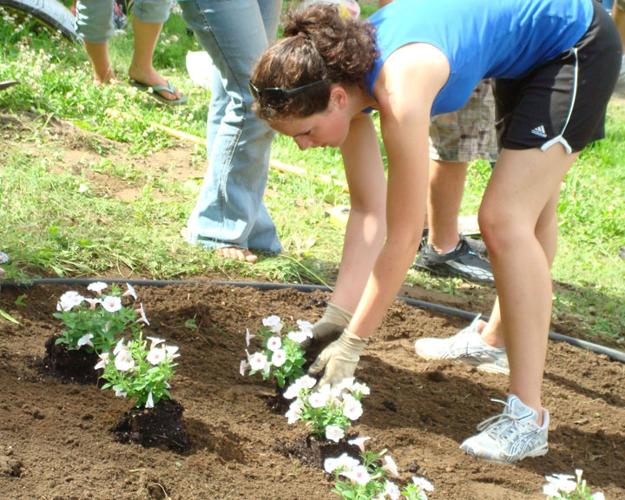person: (249, 1, 625, 464)
